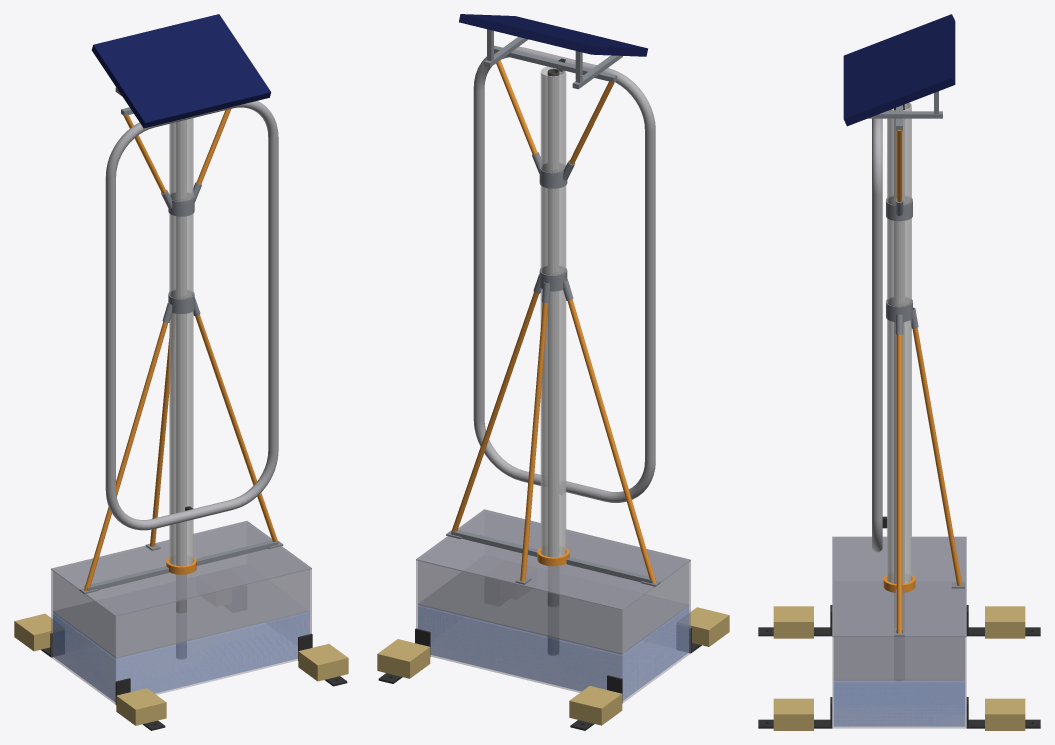
Rendered from unit-v3-bracing-v6.glb.
3 renders of one model, left to right at view 1: azimuth 30°, elevation 25°; view 2: azimuth 150°, elevation 25°; view 3: azimuth 270°, elevation 25°, orthographic. The views are drawn at different scales.
Parts seen in each view (by area): view 1: tank, solar_panel_30W, track_loop, lid, water_volume, growing_pipe, shelf, spine_tube, sandbags, lower_aframe_and_back_strut_16mm, base_bar_and_lid_plates, clamp_collars_50mm (+2 smaller); view 2: tank, growing_pipe, water_volume, lid, track_loop, shelf, spine_tube, lower_aframe_and_back_strut_16mm, sandbags, solar_panel_30W, base_bar_and_lid_plates, clamp_collars_50mm (+4 smaller); view 3: tank, lid, growing_pipe, solar_panel_30W, water_volume, shelf, sandbags, track_loop, lower_aframe_and_back_strut_16mm, spine_tube, fold_out_feet, clamp_collars_50mm (+2 smaller).
Part boxes in pixels (left/top/right/bottom): tank: left=51, top=522, right=311, bottom=704; solar_panel_30W: left=91, top=14, right=271, bottom=128; track_loop: left=105, top=101, right=278, bottom=530; lid: left=51, top=521, right=311, bottom=616; water_volume: left=53, top=612, right=309, bottom=701; growing_pipe: left=169, top=118, right=193, bottom=566; shelf: left=53, top=580, right=309, bottom=658; spine_tube: left=176, top=120, right=186, bottom=658; sandbags: left=14, top=613, right=348, bottom=725; lower_aframe_and_back_strut_16mm: left=84, top=315, right=278, bottom=590; base_bar_and_lid_plates: left=79, top=540, right=283, bottom=594; clamp_collars_50mm: left=161, top=182, right=201, bottom=322; tank: left=416, top=511, right=690, bottom=702; growing_pipe: left=540, top=66, right=566, bottom=557; water_volume: left=418, top=606, right=688, bottom=700; lid: left=416, top=509, right=690, bottom=610; track_loop: left=473, top=46, right=655, bottom=502; shelf: left=418, top=572, right=688, bottom=654; spine_tube: left=547, top=68, right=559, bottom=654; lower_aframe_and_back_strut_16mm: left=451, top=292, right=656, bottom=583; sandbags: left=377, top=607, right=729, bottom=725; solar_panel_30W: left=459, top=14, right=647, bottom=56; base_bar_and_lid_plates: left=446, top=530, right=660, bottom=586; clamp_collars_50mm: left=532, top=152, right=575, bottom=302; tank: left=832, top=637, right=966, bottom=728; lid: left=832, top=536, right=966, bottom=637; growing_pipe: left=887, top=102, right=911, bottom=583; solar_panel_30W: left=843, top=14, right=955, bottom=126; water_volume: left=834, top=681, right=964, bottom=726; shelf: left=834, top=637, right=964, bottom=680; sandbags: left=773, top=606, right=1025, bottom=730; track_loop: left=872, top=118, right=882, bottom=552; lower_aframe_and_back_strut_16mm: left=896, top=328, right=962, bottom=633; spine_tube: left=894, top=104, right=904, bottom=627; fold_out_feet: left=758, top=605, right=1040, bottom=728; clamp_collars_50mm: left=886, top=198, right=918, bottom=334.
Bounding box in the file's own units: 760 × 2080 × 840.
